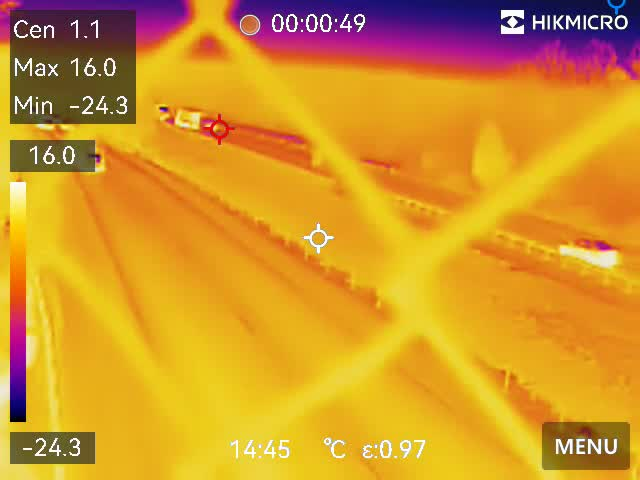heavyTruck: (170, 105, 209, 133)
smallCar: (557, 232, 617, 266)
